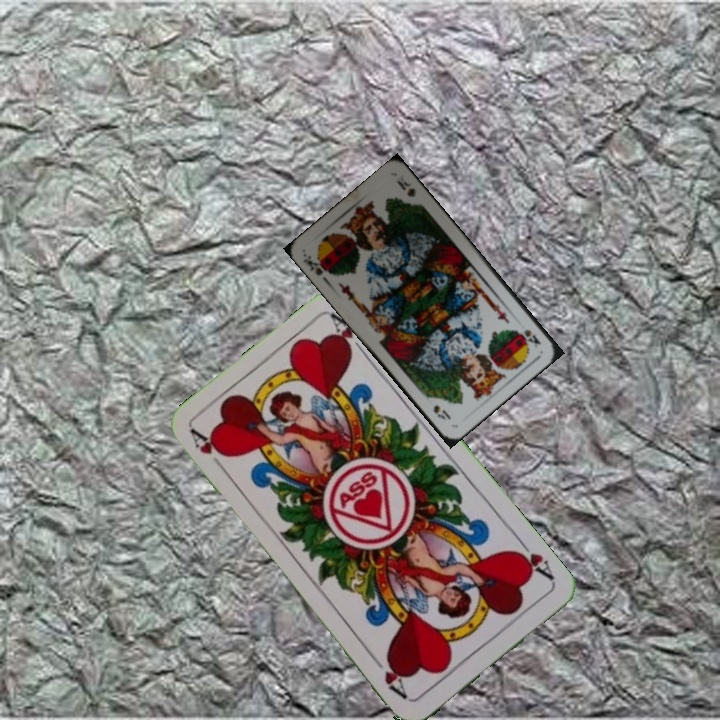HA: (507, 535, 558, 584), (187, 425, 230, 476)
SK: (299, 250, 334, 278), (516, 326, 543, 350)
